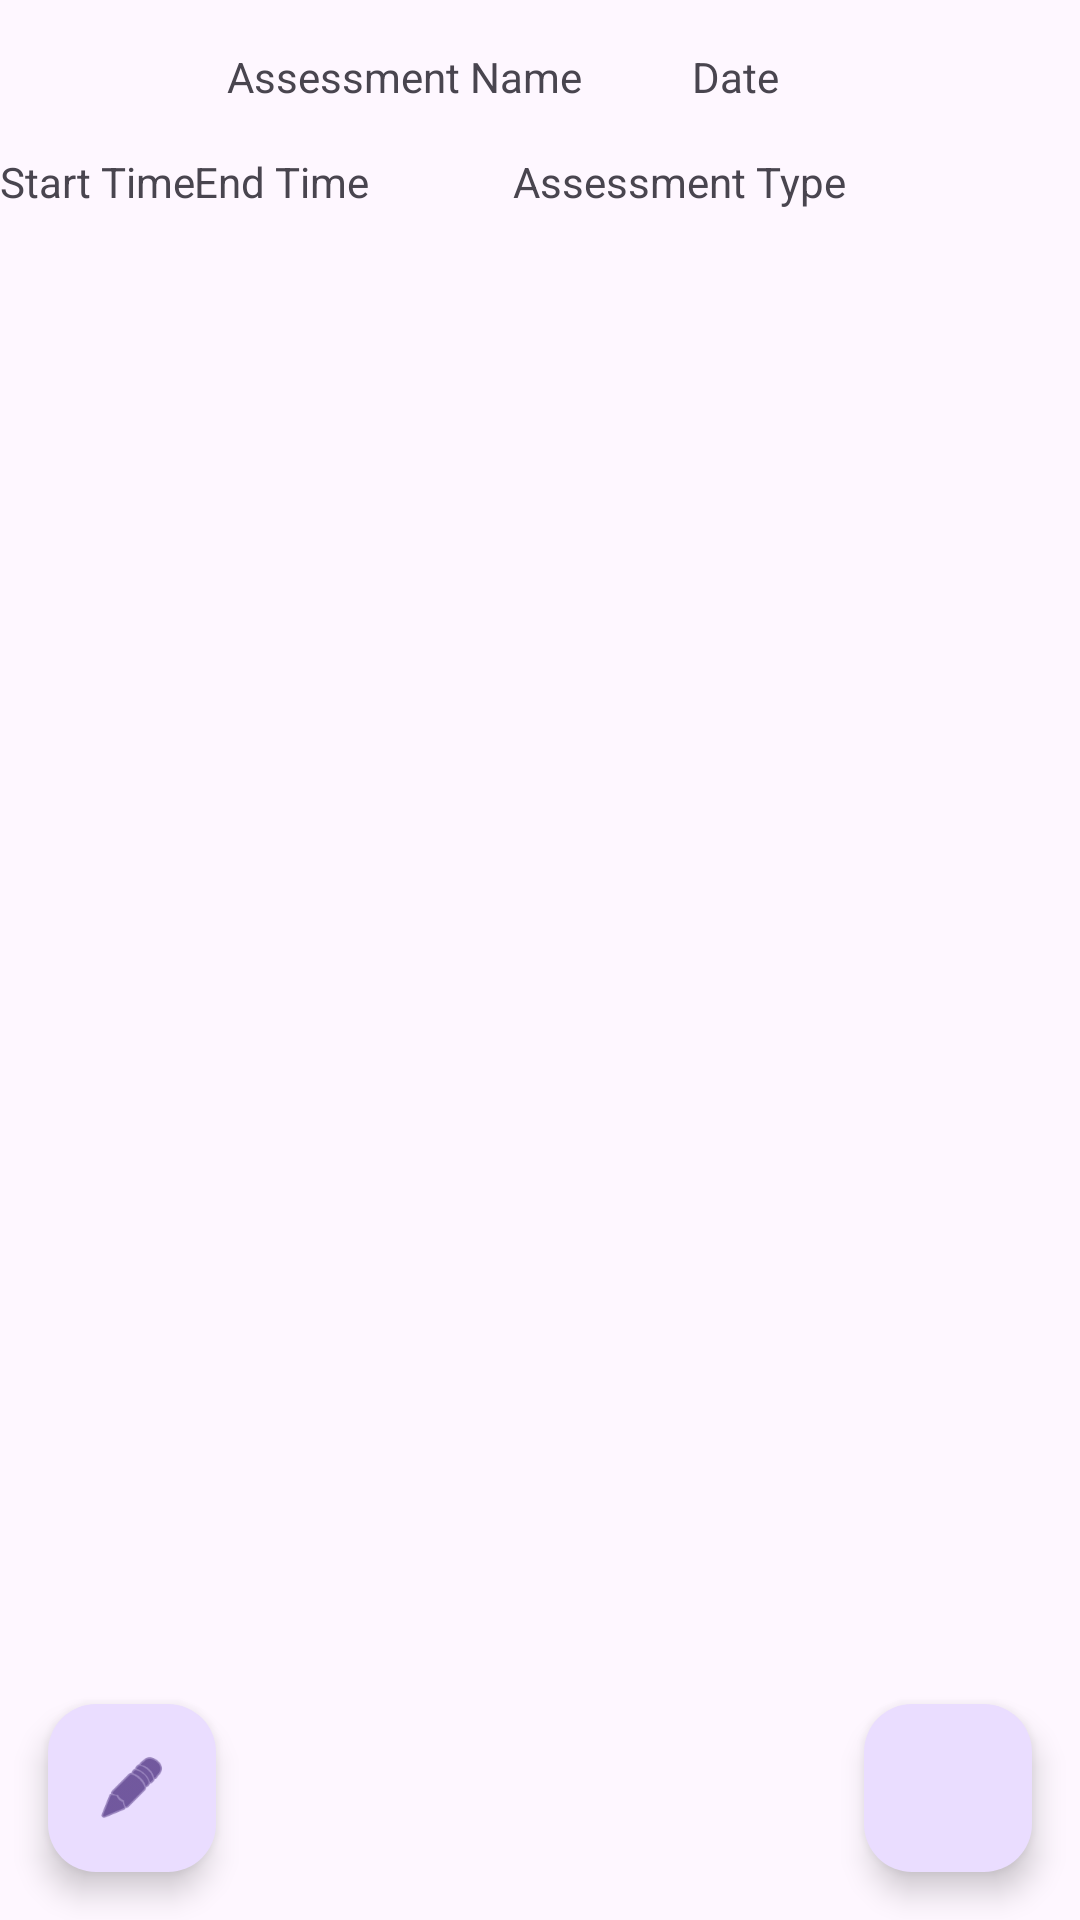

Point at icon controls on the screen. Image size 1080*1920, points as (x,y).
edit: (132,1788)
